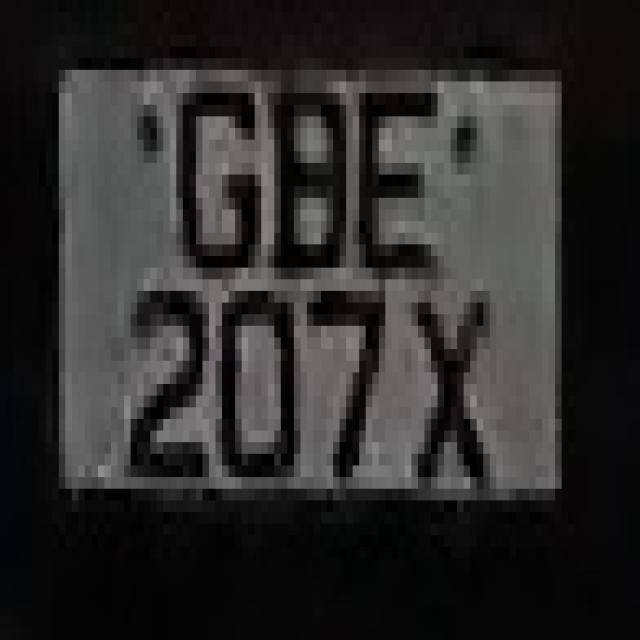0: (215, 268, 307, 477)
2: (124, 244, 216, 500)
7: (287, 244, 392, 512)
B: (274, 35, 366, 302)
E: (353, 58, 444, 279)
G: (163, 58, 268, 303)
X: (405, 233, 503, 547)
